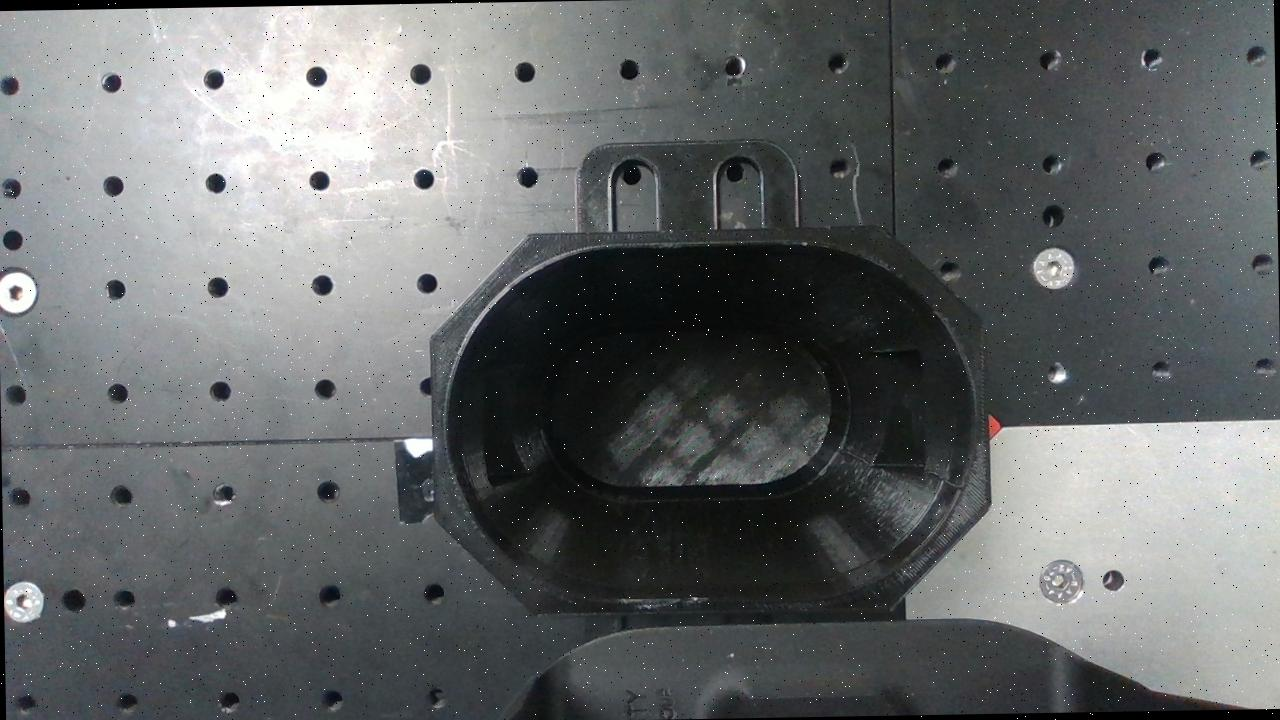small_interface: (428, 225, 992, 619)
